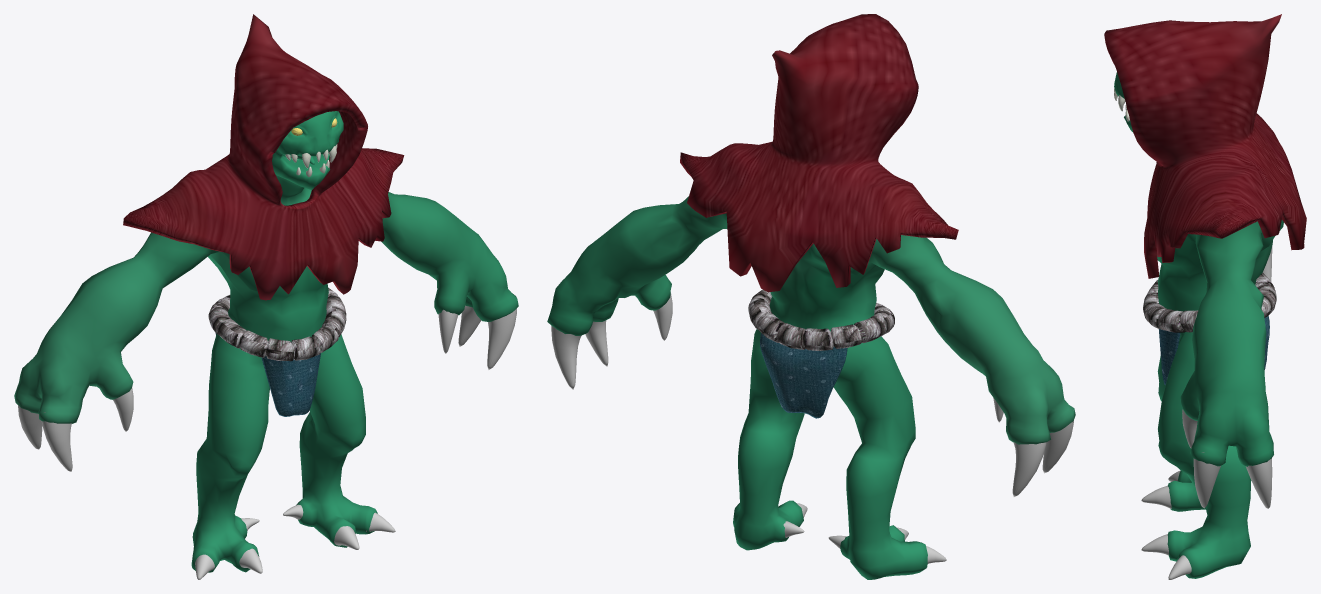
Rendered from Ravager.obj.
The picture shows the model from 3 angles, left to right: view 1: azimuth 30°, elevation 25°; view 2: azimuth 150°, elevation 25°; view 3: azimuth 270°, elevation 25°; orthographic projection. The views are drawn at different scales.
Visible parts, largest first — view 1: REEEEETOPO, hood_Cube.001, claws_Cylinder.002, rope_belt_Cube.002, loin_cloth_Plane; view 2: REEEEETOPO, hood_Cube.001, claws_Cylinder.002, loin_cloth_Plane, rope_belt_Cube.002; view 3: hood_Cube.001, REEEEETOPO, claws_Cylinder.002, rope_belt_Cube.002, loin_cloth_Plane.
Boxes of the visible parts, bbox=[...] form: REEEEETOPO: bbox=[14, 111, 518, 572]; hood_Cube.001: bbox=[123, 14, 404, 300]; claws_Cylinder.002: bbox=[18, 305, 516, 579]; rope_belt_Cube.002: bbox=[208, 288, 346, 361]; loin_cloth_Plane: bbox=[215, 333, 320, 416]; REEEEETOPO: bbox=[547, 196, 1075, 579]; hood_Cube.001: bbox=[680, 14, 958, 292]; claws_Cylinder.002: bbox=[551, 292, 1073, 563]; loin_cloth_Plane: bbox=[760, 333, 847, 418]; rope_belt_Cube.002: bbox=[748, 289, 894, 350]; hood_Cube.001: bbox=[1104, 14, 1306, 278]; REEEEETOPO: bbox=[1114, 72, 1283, 578]; claws_Cylinder.002: bbox=[1141, 246, 1272, 579]; rope_belt_Cube.002: bbox=[1143, 273, 1276, 332]; loin_cloth_Plane: bbox=[1158, 316, 1269, 385].
Bounding box in the file's own units: 19.78 × 20.05 × 6.98.
